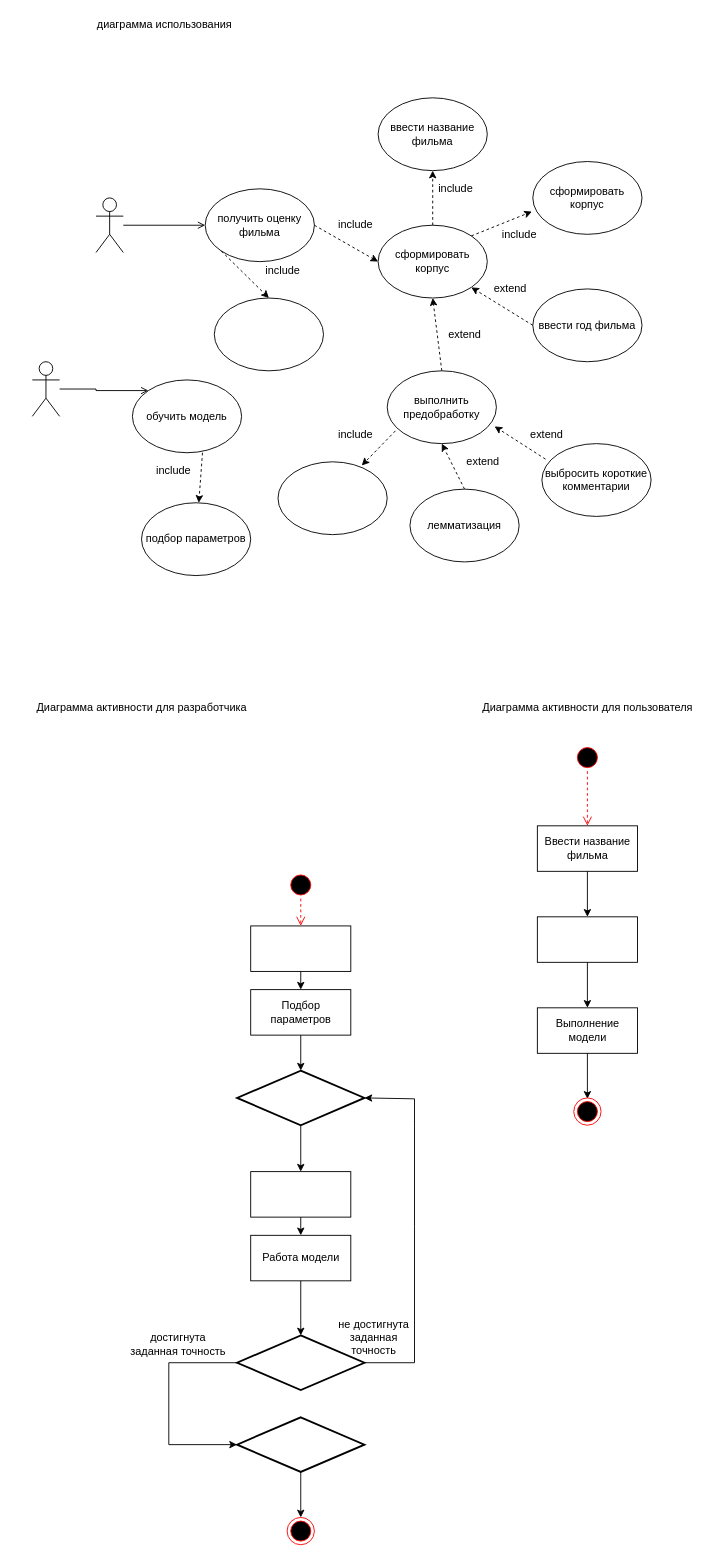
Some shapes in this 713 by 1561 pixel diagram are drawn without their labels. Here are the shapes that lost their labels. From the top down, the box of each, then its label:
(95, 197, 123, 253): User
(213, 297, 324, 371): выполнить модель
(31, 361, 60, 416): Programmer
(277, 461, 387, 535): выбросить стоп-слова
(250, 925, 351, 971): Сформировать обучающий корпус
(536, 916, 637, 962): Получить данные
(250, 1171, 351, 1217): Обучение модели
